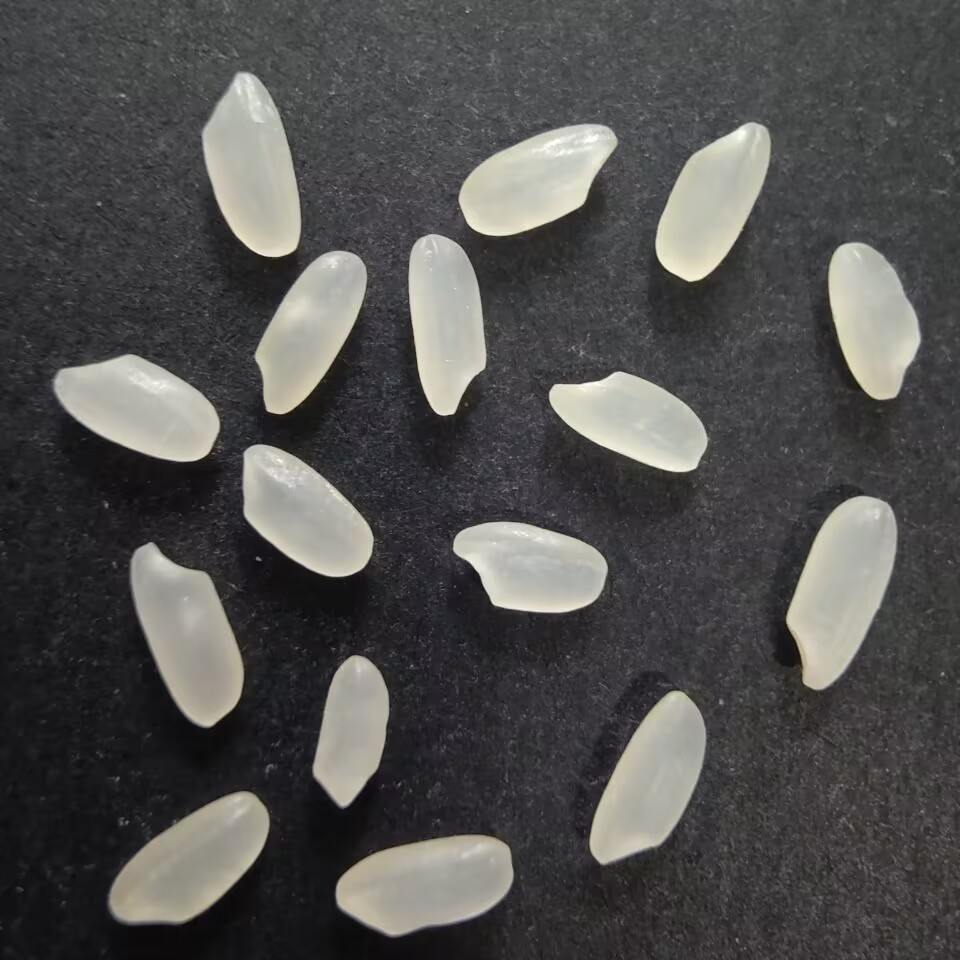rice: (102, 782, 277, 932), (780, 487, 902, 698), (122, 536, 246, 729), (586, 684, 710, 872), (194, 68, 308, 263), (330, 827, 521, 941), (248, 244, 370, 422), (235, 440, 379, 586), (652, 115, 773, 288), (453, 116, 622, 239), (44, 351, 222, 467), (540, 367, 710, 480), (399, 229, 496, 422), (825, 237, 926, 406), (446, 519, 613, 619), (308, 649, 398, 808)
